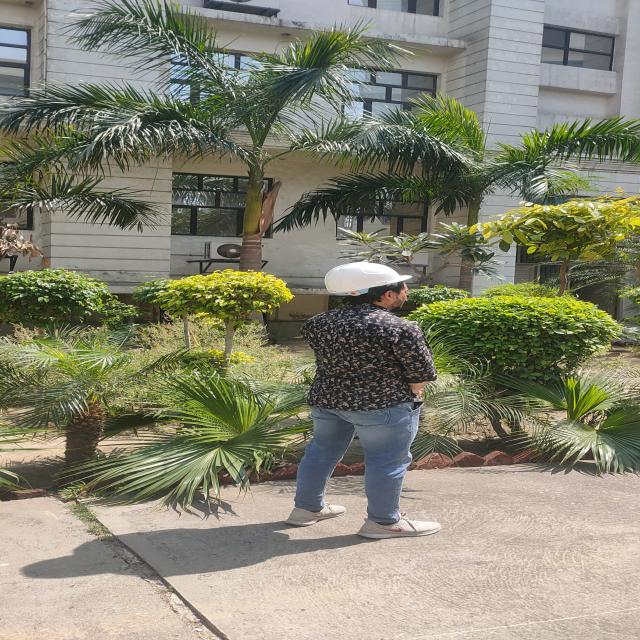no jacket: (300, 262, 430, 538)
